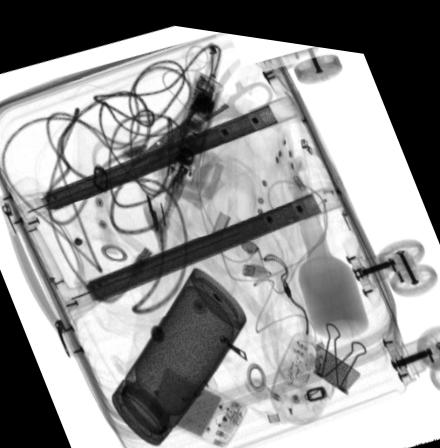Powerbank: (144, 356, 249, 443)
Scissors: (127, 33, 276, 171)
